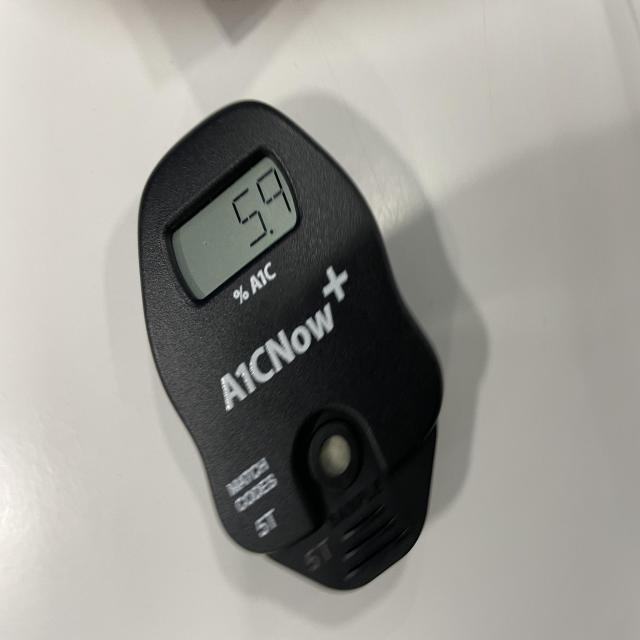hba1c: (136, 101, 445, 594)
